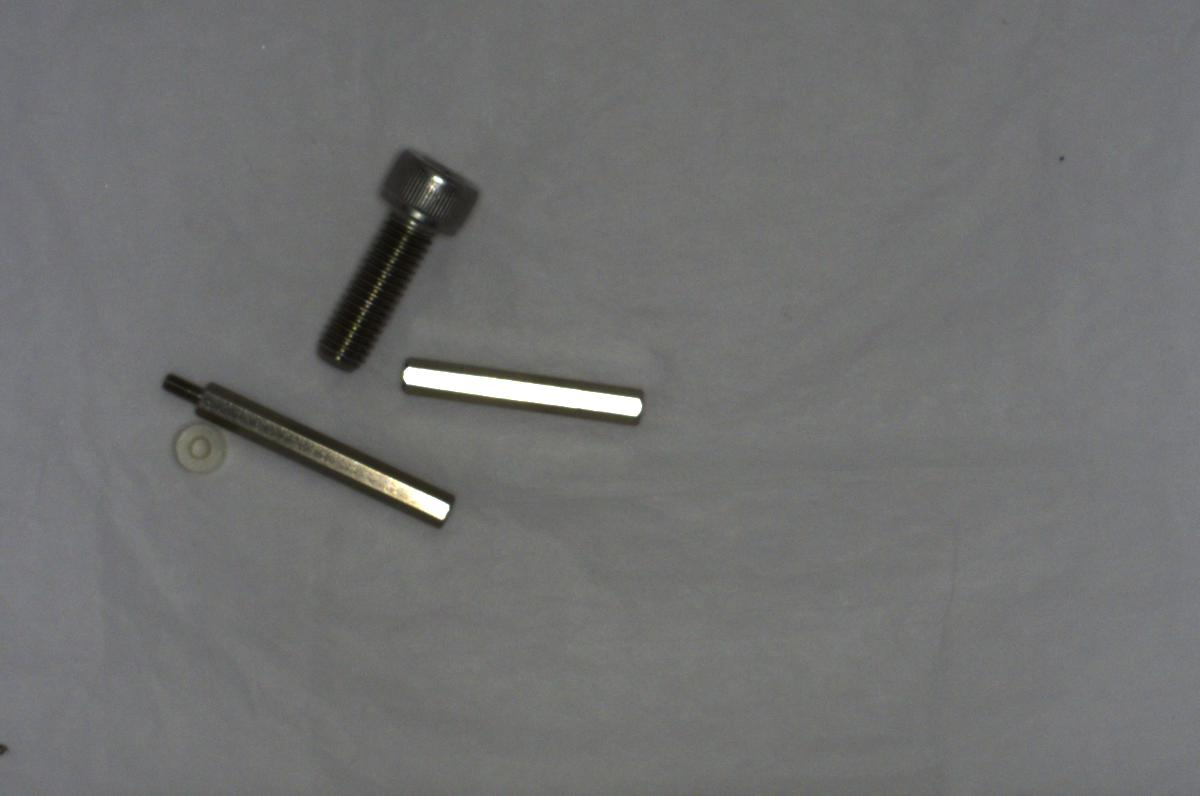Double hexagonal column: (388, 355, 650, 430)
Hexagon screw: (310, 141, 475, 376)
Hexagonal steel column: (161, 366, 454, 523)
Plastic cushion pillar: (165, 418, 231, 475)
